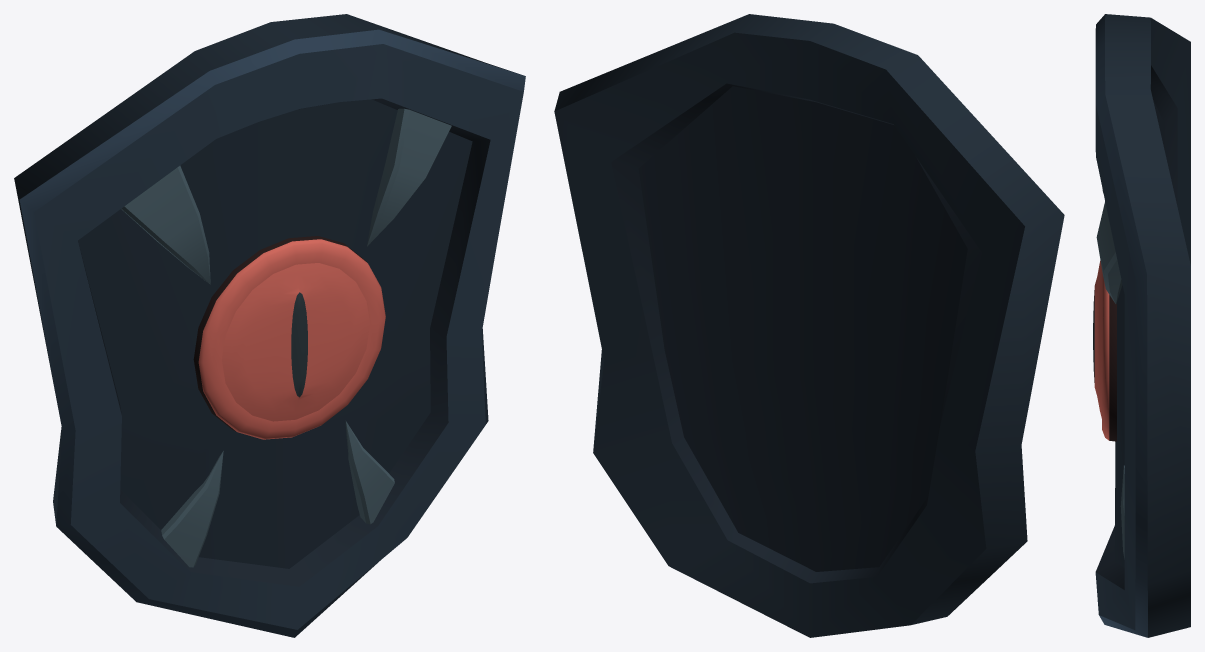
The model's file is wpms cap6b.fbx.
3 views of the same model, side by side, from view 1: azimuth 30°, elevation 25°; view 2: azimuth 150°, elevation 25°; view 3: azimuth 270°, elevation 25° (orthographic). The views are drawn at different scales.
Parts seen in each view (by area): view 1: wpms_cap6b; view 2: wpms_cap6b; view 3: wpms_cap6b.
Part boxes in pixels (left/top/right/bottom): wpms_cap6b: left=14, top=14, right=525, bottom=637; wpms_cap6b: left=554, top=14, right=1064, bottom=637; wpms_cap6b: left=1093, top=14, right=1190, bottom=637.
Bounding box in the file's own units: 100 × 113 × 17.3.
1 material, 1 textured.
